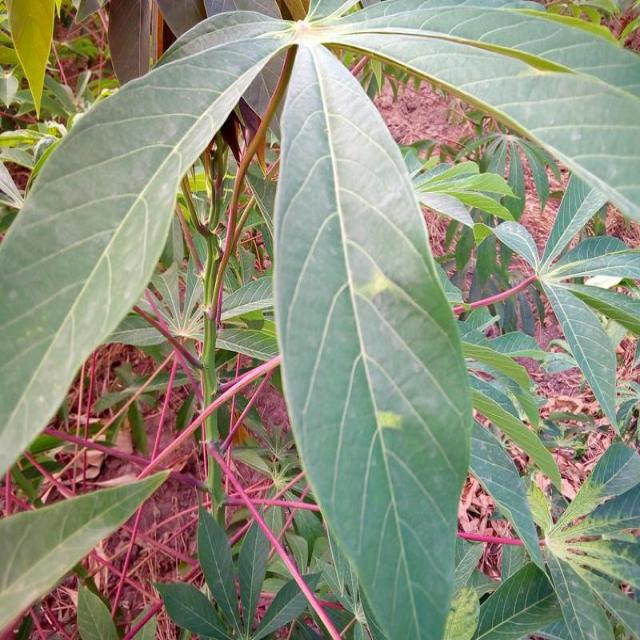cassava leaf: (0, 1, 638, 637), (0, 5, 296, 481), (270, 37, 474, 638)
